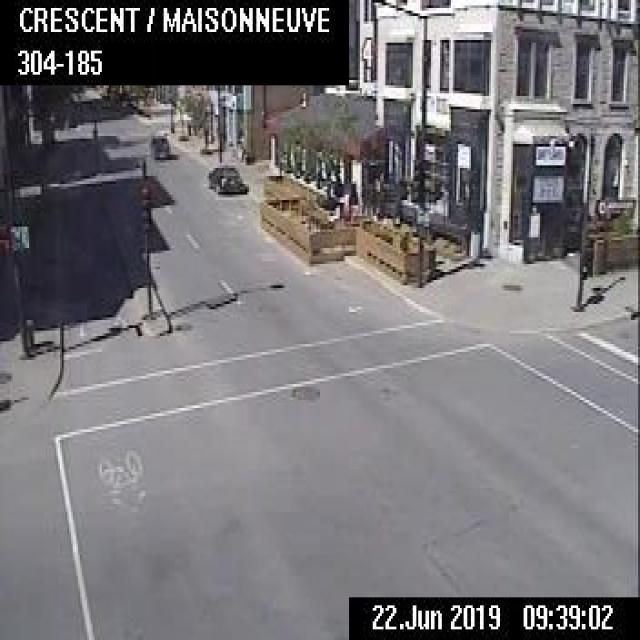vehicle: (207, 162, 242, 193), (148, 134, 168, 158)
